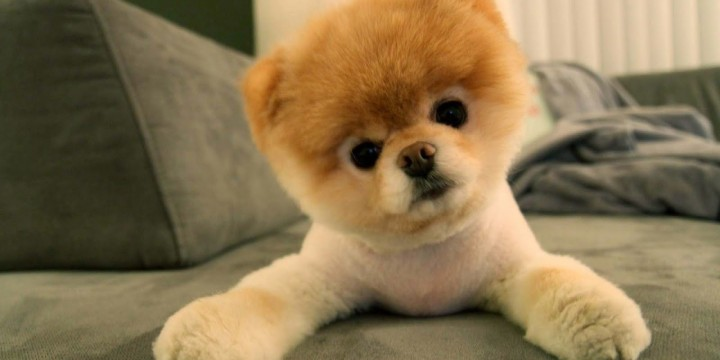pomeranian: (154, 2, 662, 360)
